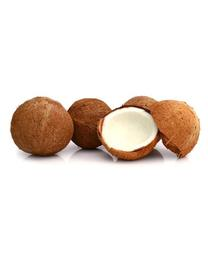coconut: (10, 96, 75, 157), (96, 105, 158, 160), (148, 98, 199, 159), (66, 98, 113, 149)
